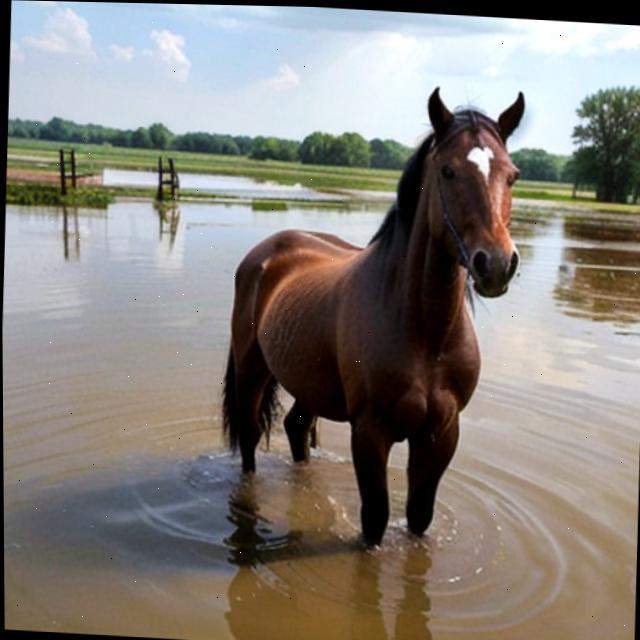horse: (201, 57, 551, 563)
